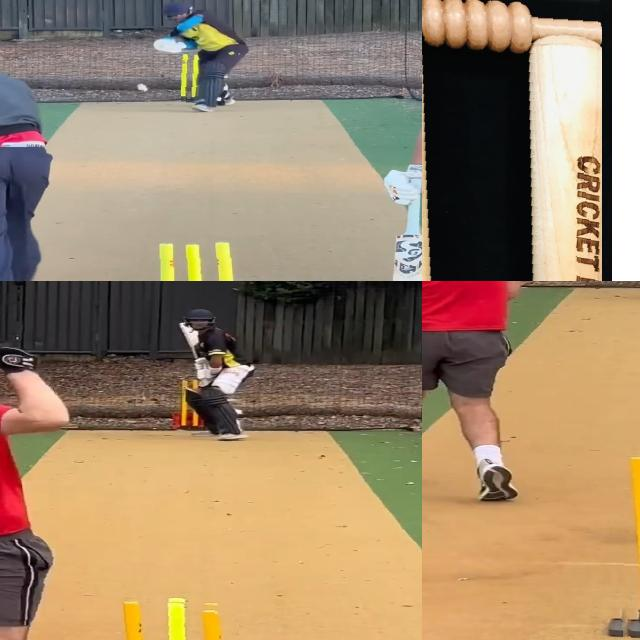Cricket ball: (135, 82, 150, 92)
Stumps: (422, 0, 602, 281), (604, 450, 640, 640), (101, 597, 239, 640), (142, 236, 257, 281), (181, 52, 203, 103)
